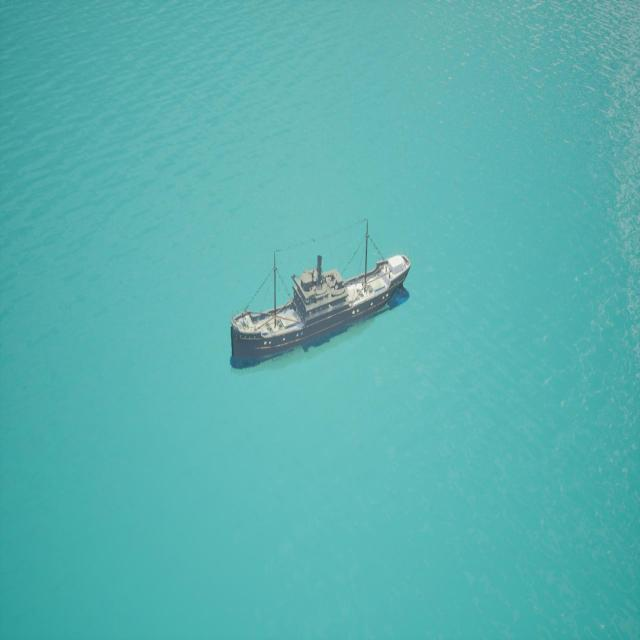fishing ship: (231, 230, 414, 370)
